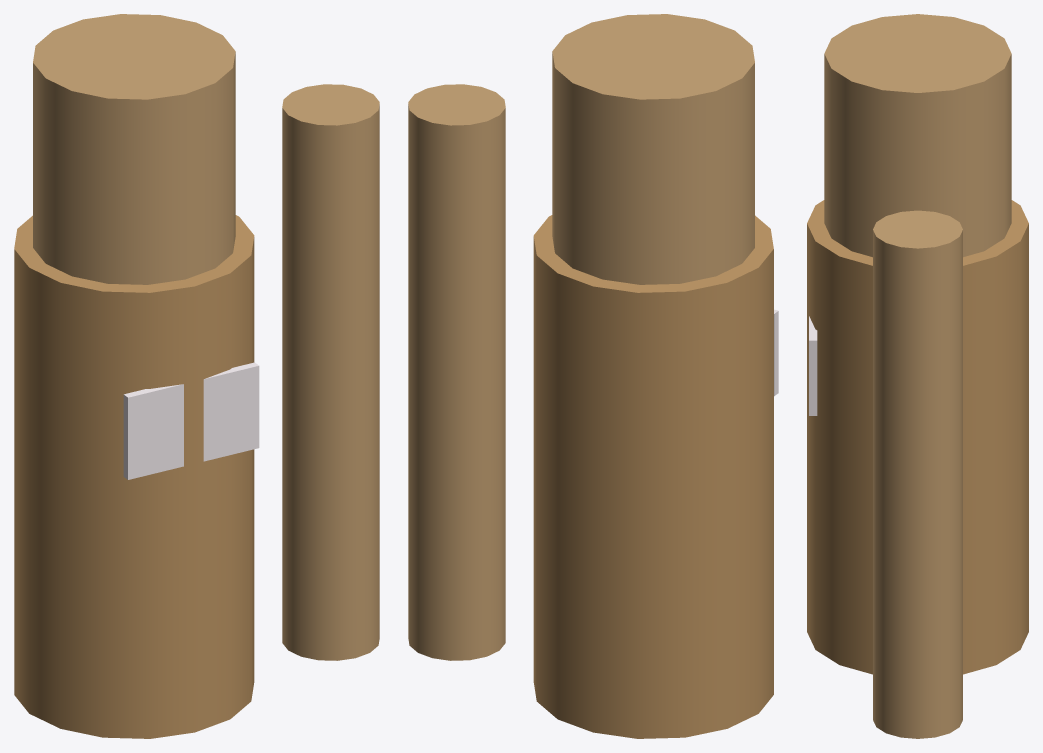
Rendered from TRD-01-08.glb.
The picture shows the model from 3 angles, left to right: view 1: azimuth 30°, elevation 25°; view 2: azimuth 150°, elevation 25°; view 3: azimuth 270°, elevation 25°; orthographic projection. The views are drawn at different scales.
Visible parts, largest first — view 1: TRD-01-08; view 2: TRD-01-08; view 3: TRD-01-08.
Boxes of the visible parts, <box> form: TRD-01-08: <box>14,14,379,738</box>; TRD-01-08: <box>408,14,778,738</box>; TRD-01-08: <box>807,14,1028,738</box>.
Bounding box in the file's own units: 0.525 × 0.92 × 0.32.
